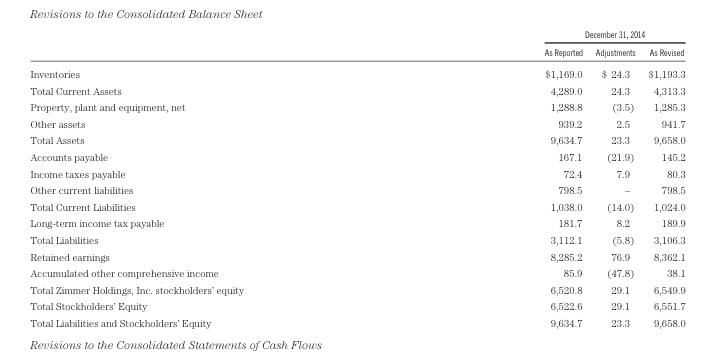table: (29, 29, 684, 328)
table column: (29, 29, 393, 328), (393, 29, 588, 328), (588, 29, 641, 328), (641, 29, 684, 328)
table column header: (29, 29, 684, 62)
table row: (29, 43, 684, 62), (29, 62, 684, 81), (29, 81, 684, 98), (29, 114, 684, 131), (29, 131, 684, 148), (29, 164, 684, 181), (29, 197, 684, 214), (29, 214, 684, 231), (29, 247, 684, 264), (29, 280, 684, 297), (29, 297, 684, 314), (29, 98, 684, 114), (29, 148, 684, 164), (29, 181, 684, 197), (29, 231, 684, 247), (29, 264, 684, 280), (29, 29, 684, 43), (29, 314, 684, 328)
table spanning cell: (393, 29, 684, 43)
